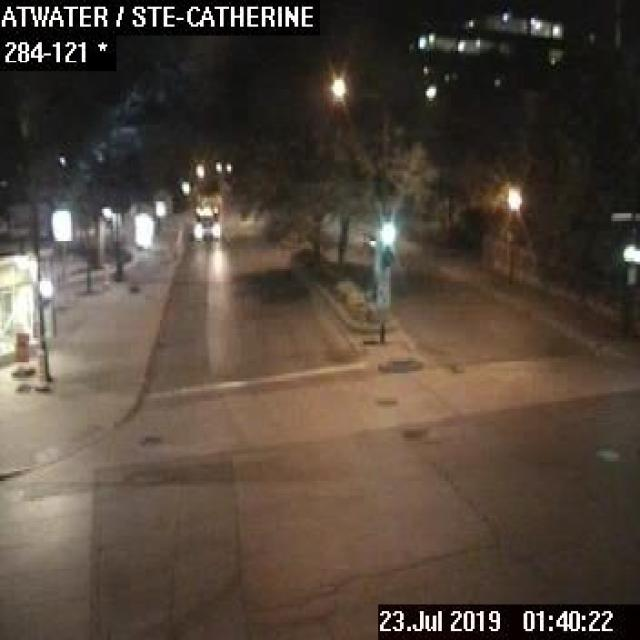bus: (193, 194, 220, 240)
construction: (13, 330, 28, 377), (34, 350, 45, 390)
